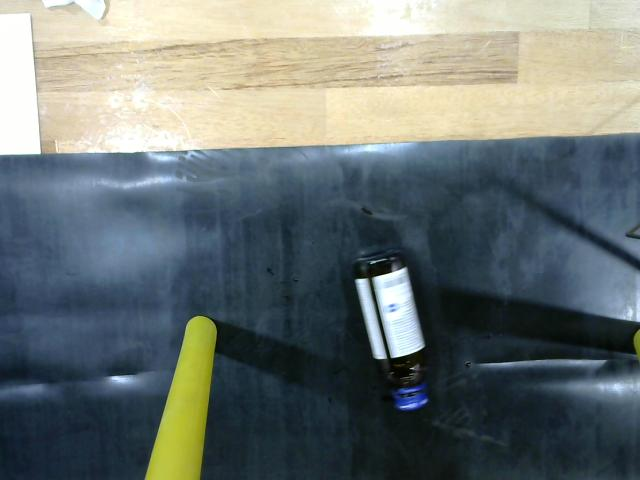glass: (344, 234, 441, 421)
